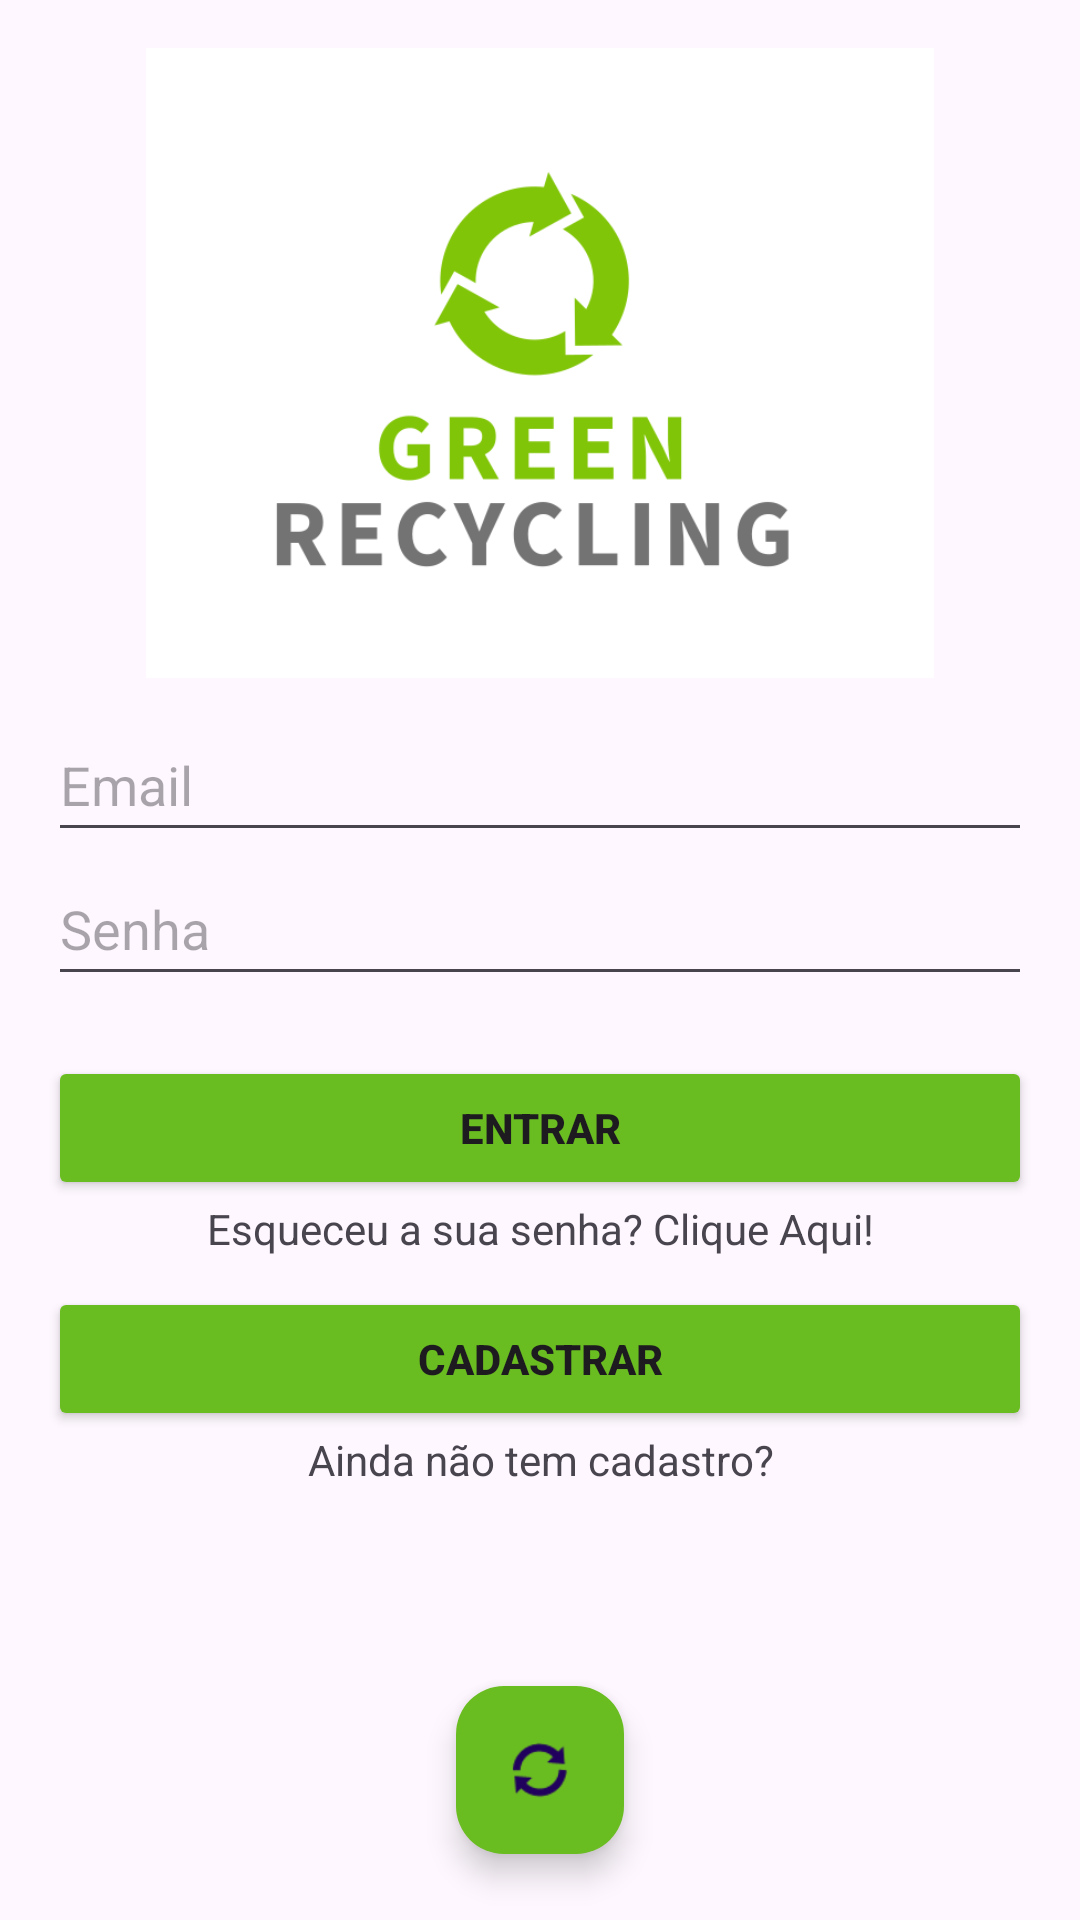

Named icons in this screenshot (1080px x 1920px) and their bounding boxes, (x1, y1, x2, y2):
popup sync: (456, 1686, 624, 1854)
